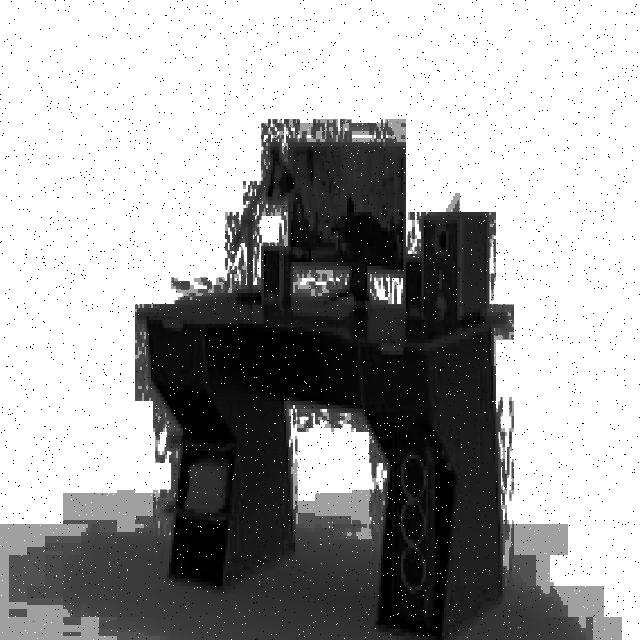table: (135, 285, 507, 640)
